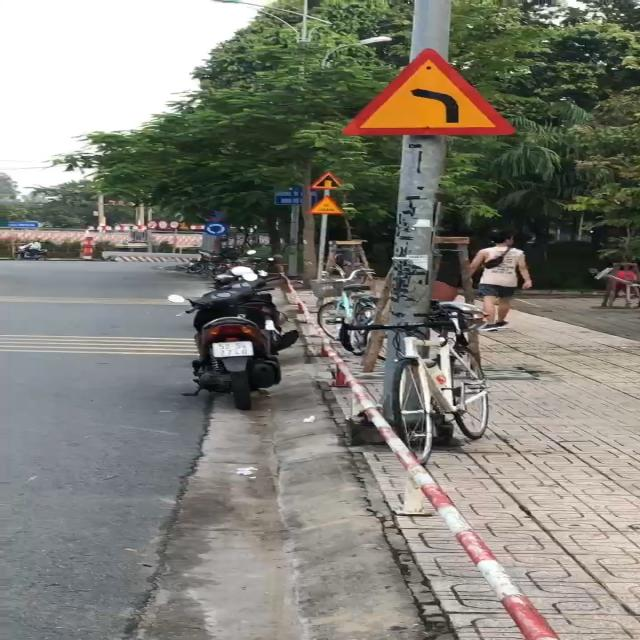Bien bao cho ngoat nguy hiem: (342, 45, 518, 138)
